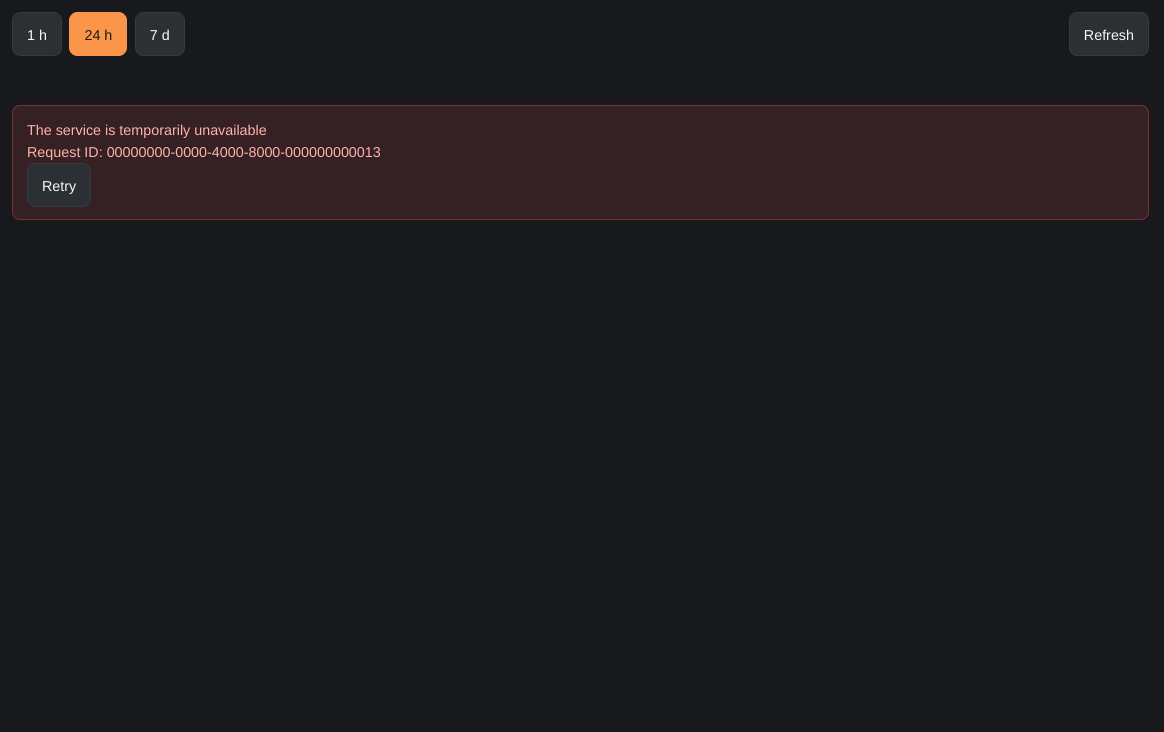
MetricsView › shows another failure as an error with Retry
Check: the message that starts with "The service is temporarily unavailable" is shown, box 12,105 -> 1149,220
Click the button "Retry" at (59, 185), box 27,163 -> 91,207
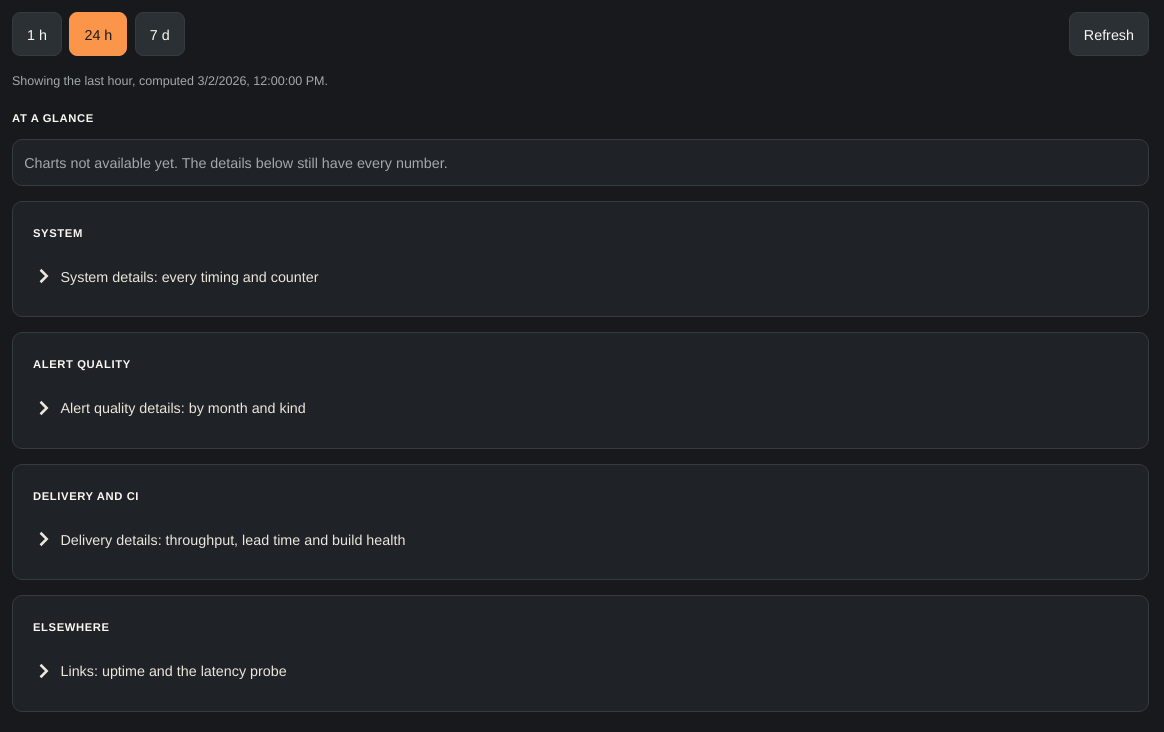
Check: the element "System" is shown, box 12,200 -> 1149,317
